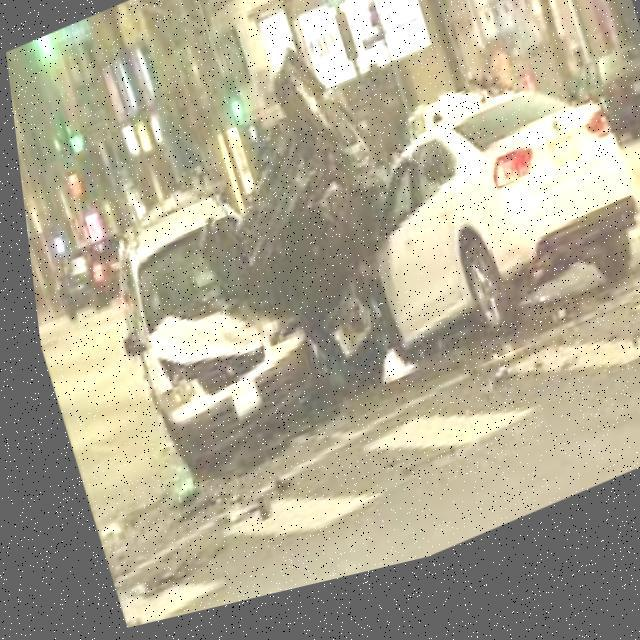Car Accident Detector - v4 Generation1 Exported: (59, 0, 640, 503)
